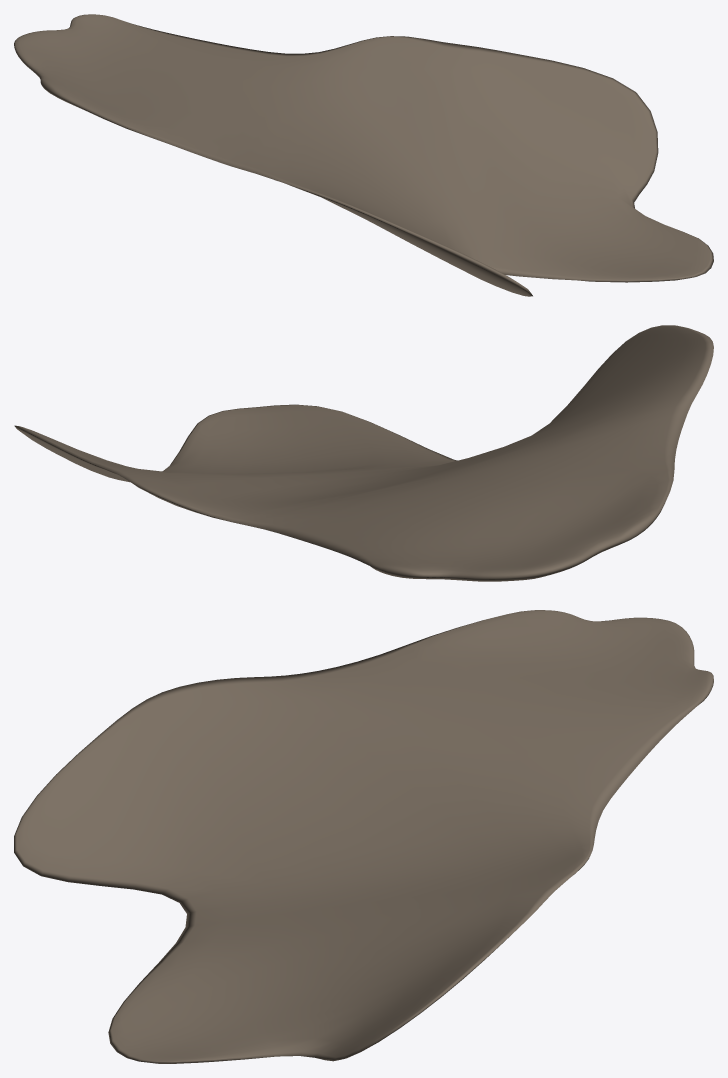
File: autum_leaf_01.fbx
3 renders of one model, top to bottom at view 1: azimuth 30°, elevation 25°; view 2: azimuth 150°, elevation 25°; view 3: azimuth 270°, elevation 25°, orthographic. The views are drawn at different scales.
Parts seen in each view (by area): view 1: pPlane2; view 2: pPlane2; view 3: pPlane2.
Boxes of the visible parts, left/top/right/bottom form: pPlane2: left=14, top=14, right=713, bottom=296; pPlane2: left=14, top=325, right=713, bottom=581; pPlane2: left=14, top=610, right=713, bottom=1063.
Bounding box in the file's own units: 1.24 × 0.3719 × 1.24.
